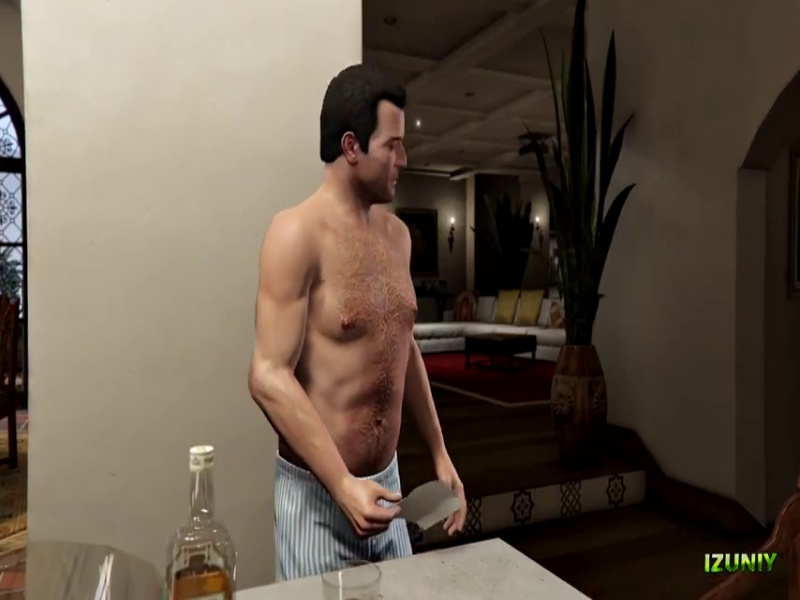human: (249, 79, 456, 550)
